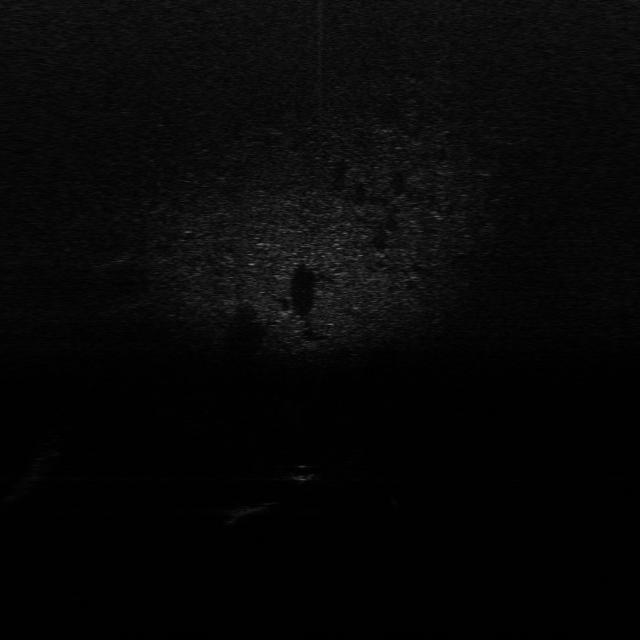ball: (282, 463, 314, 483)
square cage: (221, 498, 277, 518)
